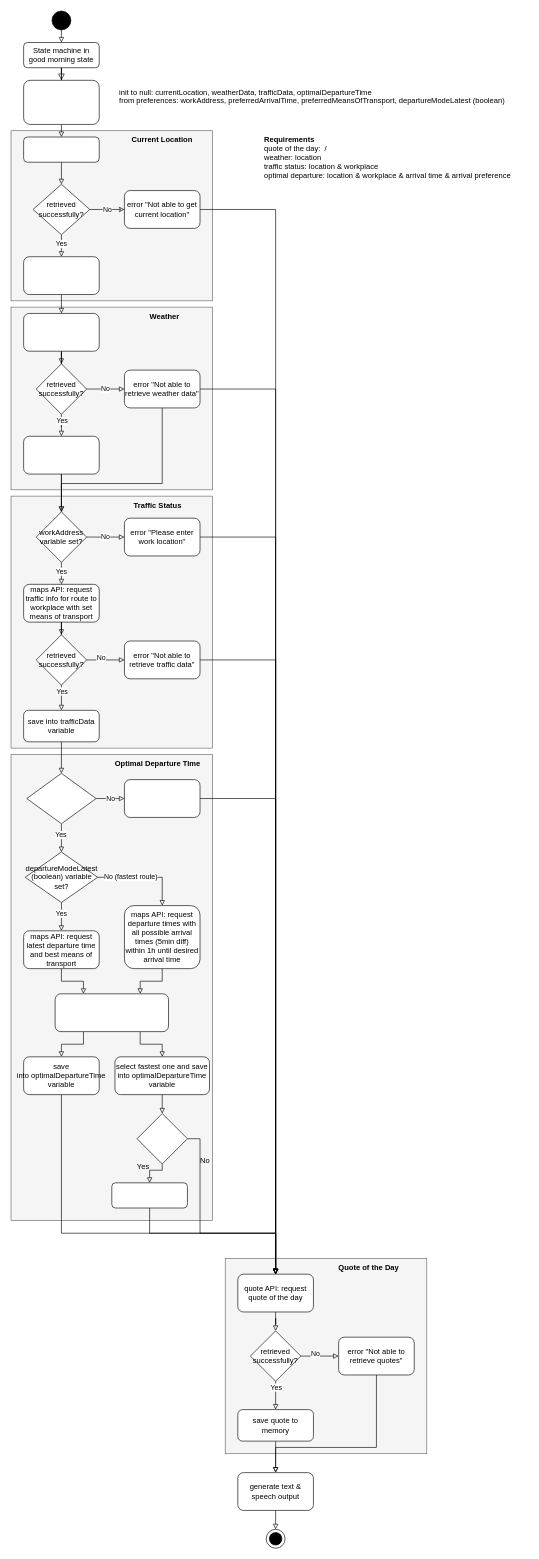
This 539x1559 diagram has some shape labels left out. The shapes that lost their labels are listed below. From the top down, each one's centre as x and y in pixels, then its label:
(61,102): initialize all necessary variables for sub-functions & retrieve from settings
(61,149): retrieve current location
(61,275): save into currentLocation variable
(61,332): weather API: request now until next 2 hours
(61,455): save into weatherData variable
(61,798): preferredArrivalTime variable set?
(162,798): error "Please enter desired workplace arrival time"
(111,1012): select best means of transport according to preferredMeansOfTransport value
(161,1138): is user late?
(149,1195): set lateness flag to remind the user
